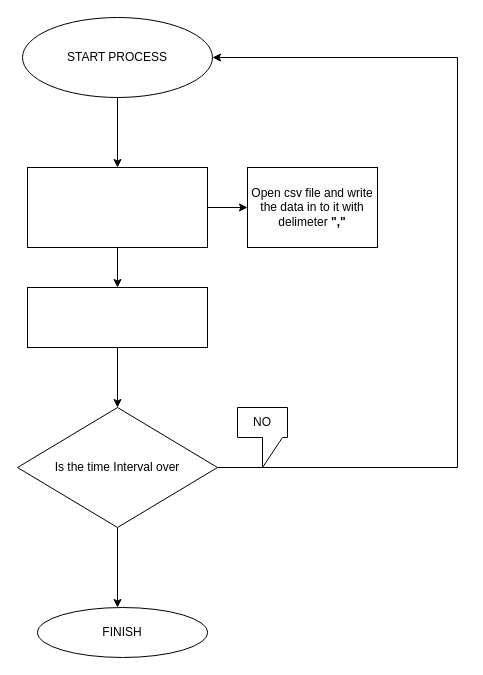
This 483x675 diagram has some shape labels left out. The box of each missing label's shape, as (x1, y1, x2, y2) in pixels:
Fetch Data of x mins time frame from broker API for 1 year: (26, 166, 208, 248)
Push Data to the tables on the SQL Data base hosted on the VPS: (26, 286, 208, 348)
